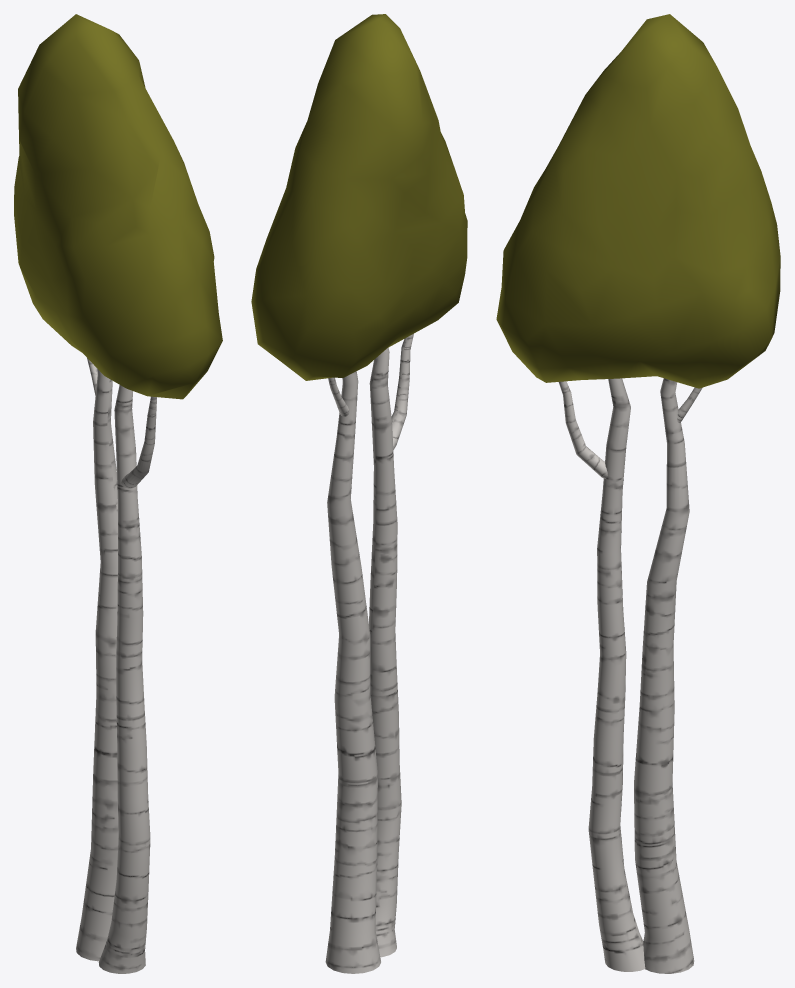
The model's file is Sm_BirchTree5L.fbx.
The picture shows the model from 3 angles, left to right: view 1: azimuth 30°, elevation 25°; view 2: azimuth 150°, elevation 25°; view 3: azimuth 270°, elevation 25°; orthographic projection.
Parts seen in each view (by area): view 1: Sm_BirchTree5L; view 2: Sm_BirchTree5L; view 3: Sm_BirchTree5L.
Boxes of the visible parts, x1,y1,x2,y2 form: Sm_BirchTree5L: (14,14,222,973); Sm_BirchTree5L: (251,14,467,973); Sm_BirchTree5L: (496,14,780,973).
Size of the model in its own units: 122 by 749 by 206.
